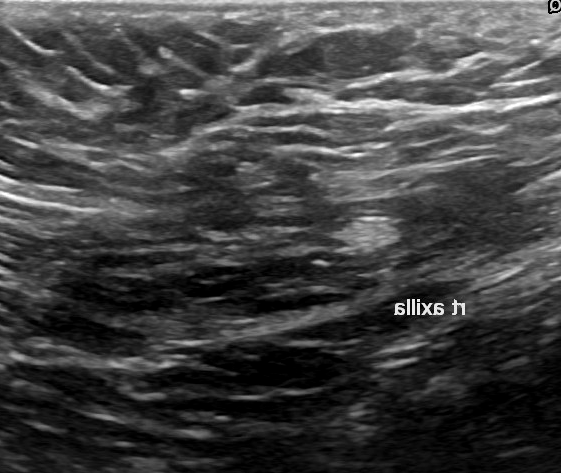Benign: (406, 155, 532, 255)
Normal: (2, 8, 551, 441)
